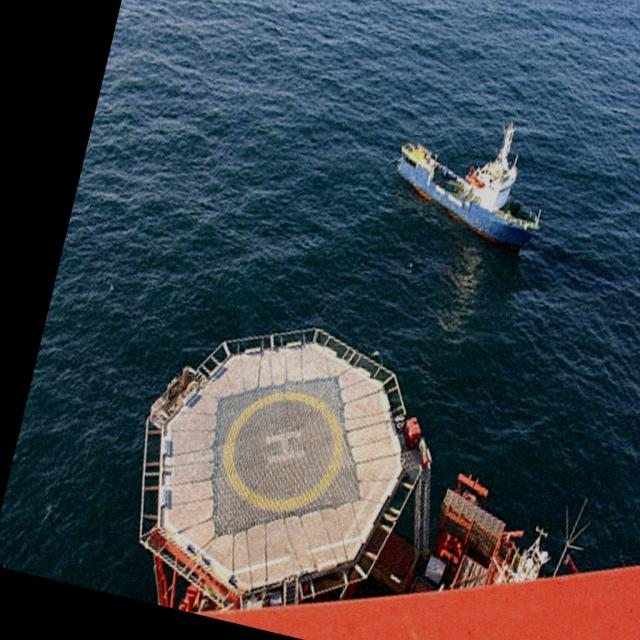helipad: (215, 386, 348, 519)
